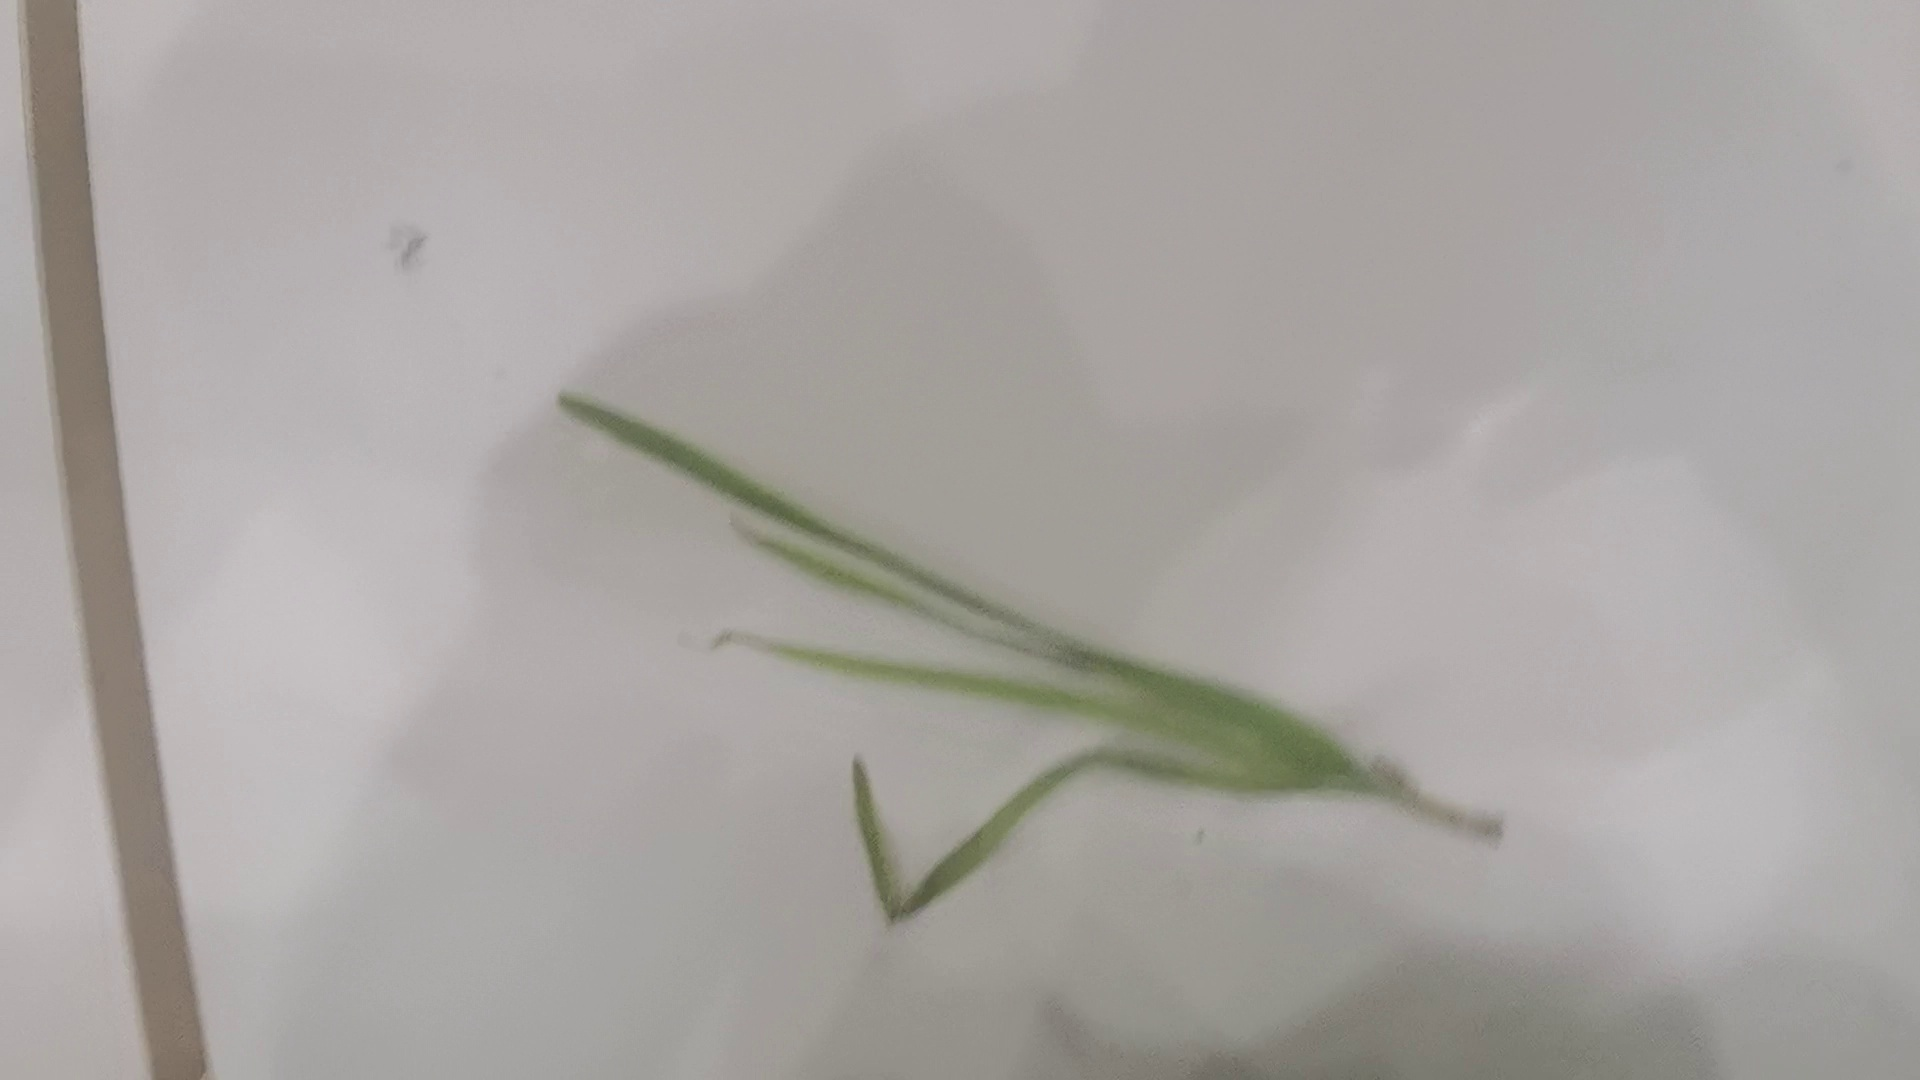chives: (559, 388, 1501, 931)
